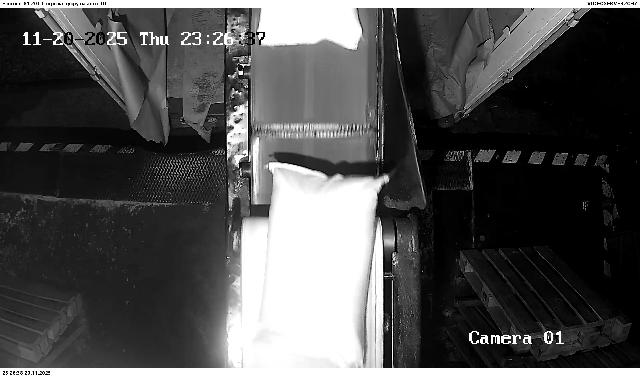bag: (256, 162, 389, 368), (257, 8, 362, 50)
